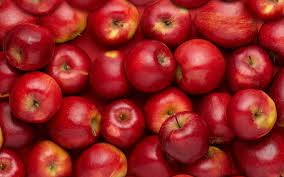apple: (227, 88, 280, 141), (51, 93, 101, 149), (177, 36, 225, 94), (129, 39, 178, 93), (195, 4, 256, 45), (11, 76, 63, 124), (143, 85, 192, 133), (49, 47, 97, 95), (157, 113, 208, 158), (88, 4, 143, 45), (197, 90, 238, 142), (26, 138, 80, 177), (7, 24, 53, 69), (98, 100, 144, 144), (227, 48, 272, 92), (92, 50, 132, 99), (146, 3, 191, 41), (80, 143, 129, 177)
